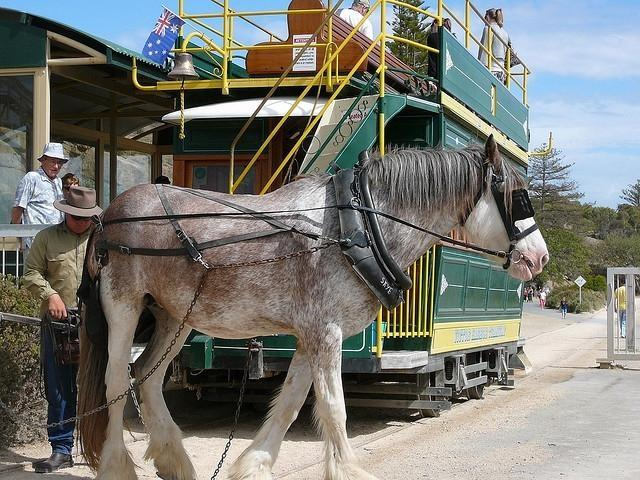truck: (163, 1, 532, 410)
